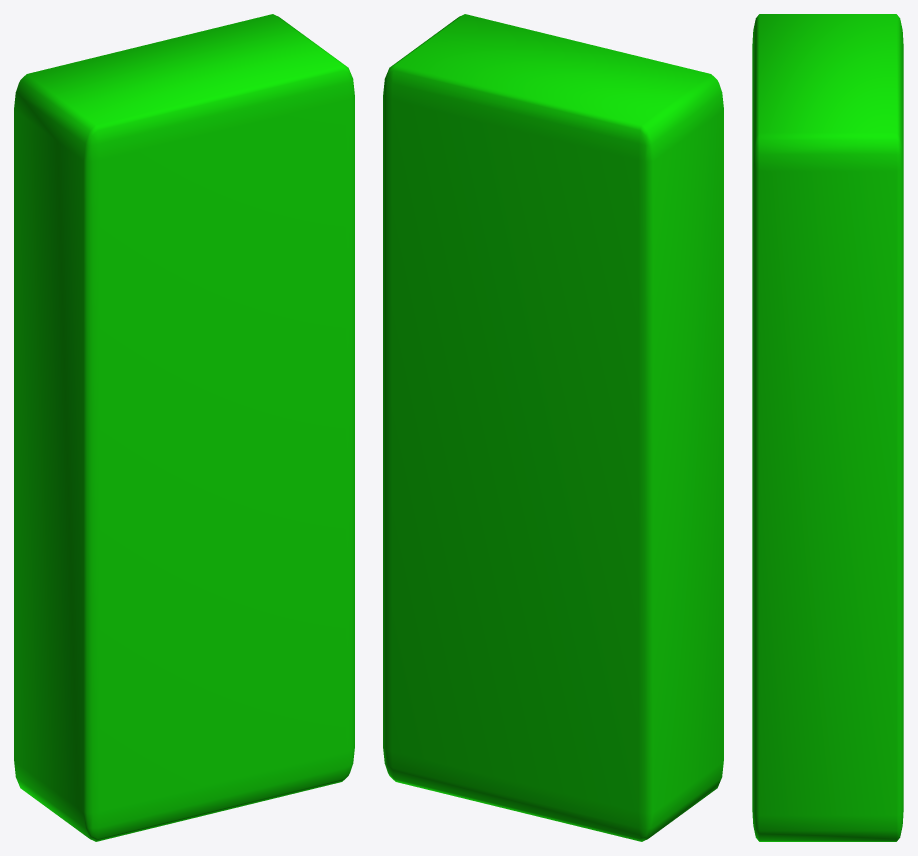
The model's file is TagliatellePlastica250g.fbx.
3 views of the same model, side by side, from view 1: azimuth 30°, elevation 25°; view 2: azimuth 150°, elevation 25°; view 3: azimuth 270°, elevation 25° (orthographic).
Parts seen in each view (by area): view 1: TagliatellePlastica.001; view 2: TagliatellePlastica.001; view 3: TagliatellePlastica.001.
Part boxes in pixels (x1=…): TagliatellePlastica.001: x1=14, y1=14, x2=354, y2=841; TagliatellePlastica.001: x1=383, y1=14, x2=723, y2=841; TagliatellePlastica.001: x1=752, y1=14, x2=903, y2=841.
Bounding box in the file's own units: 132 × 334 × 64.68.
